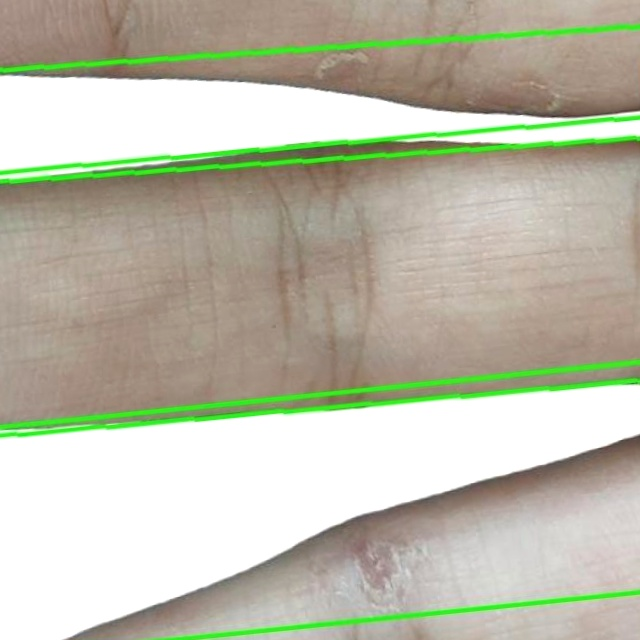Atopic Dermatitis: (0, 118, 639, 436), (0, 363, 639, 639), (0, 26, 639, 182)
